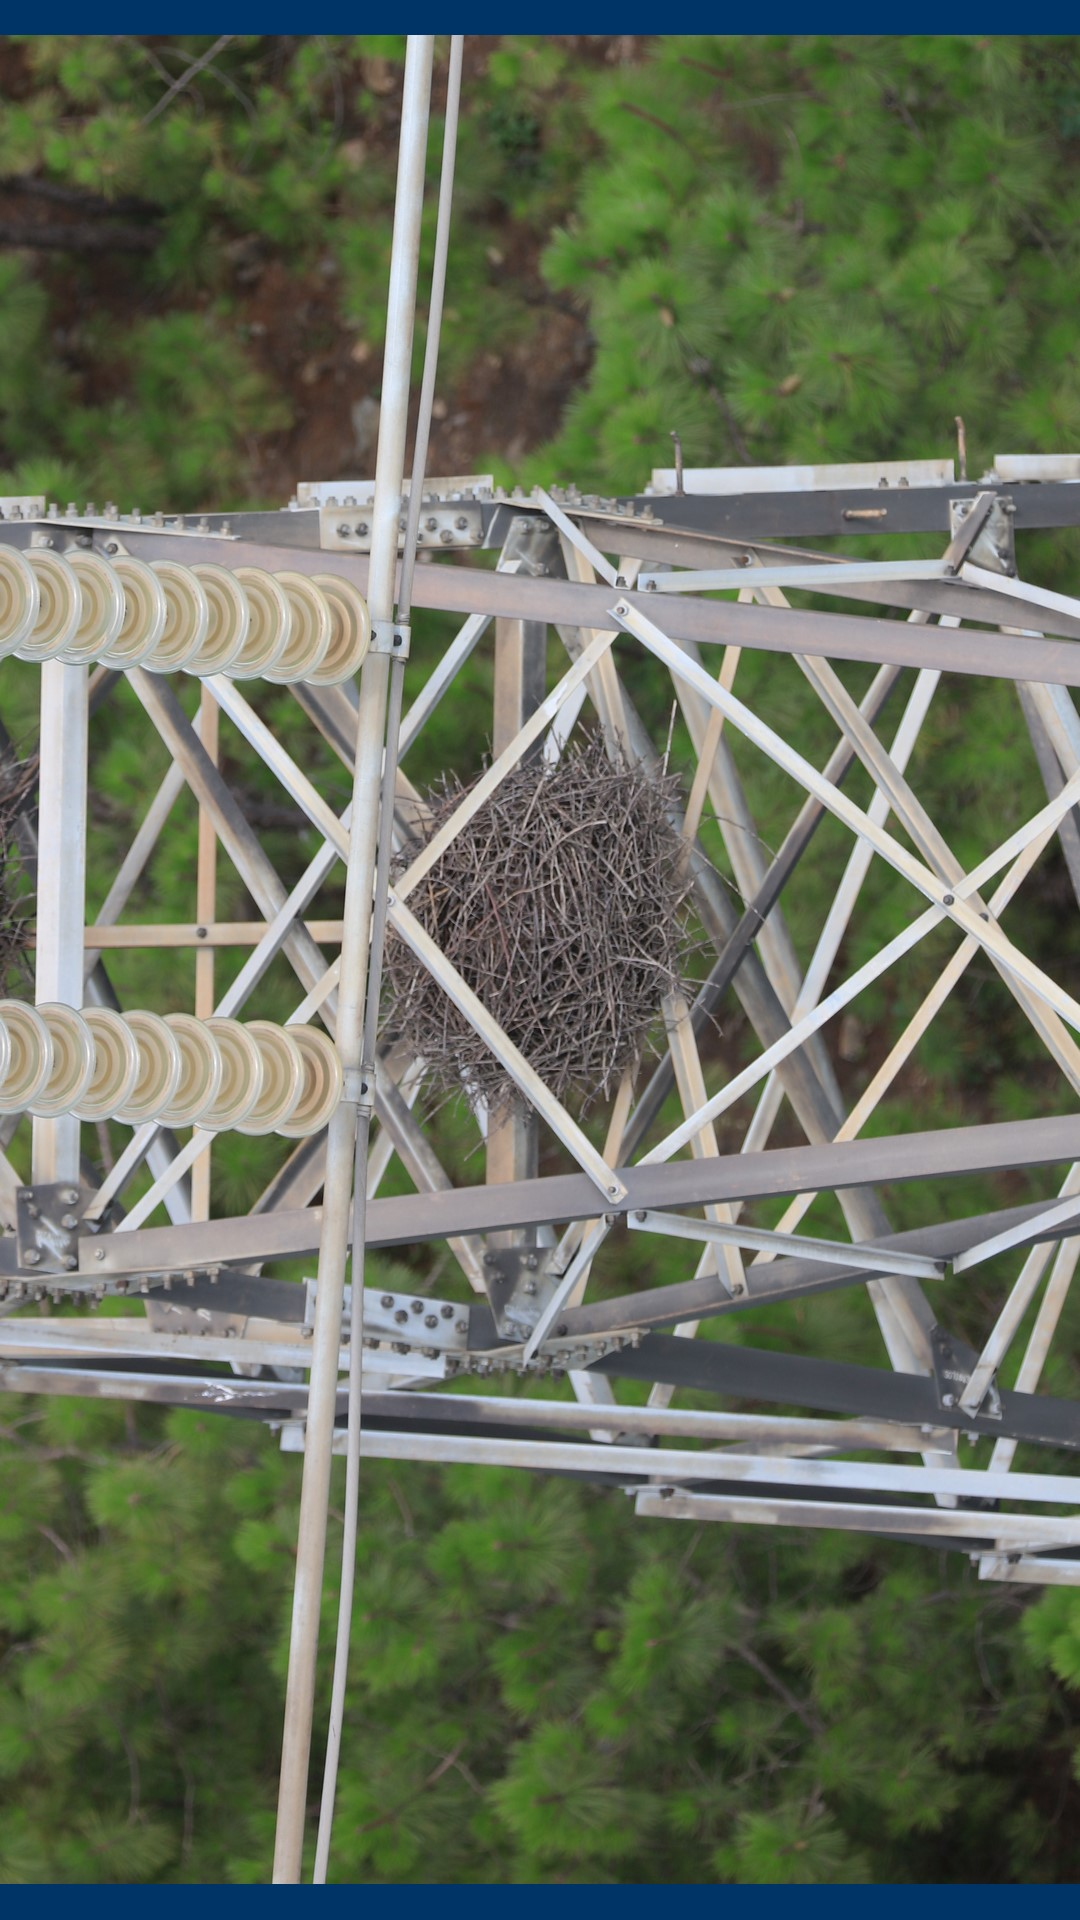niaowo: (345, 737, 731, 1137)
